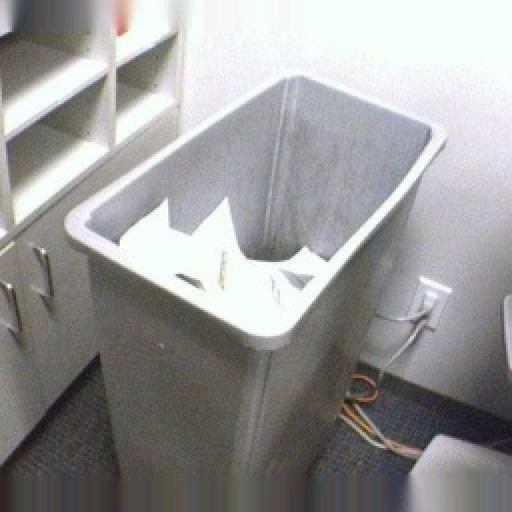trash-can: (65, 59, 456, 512)
